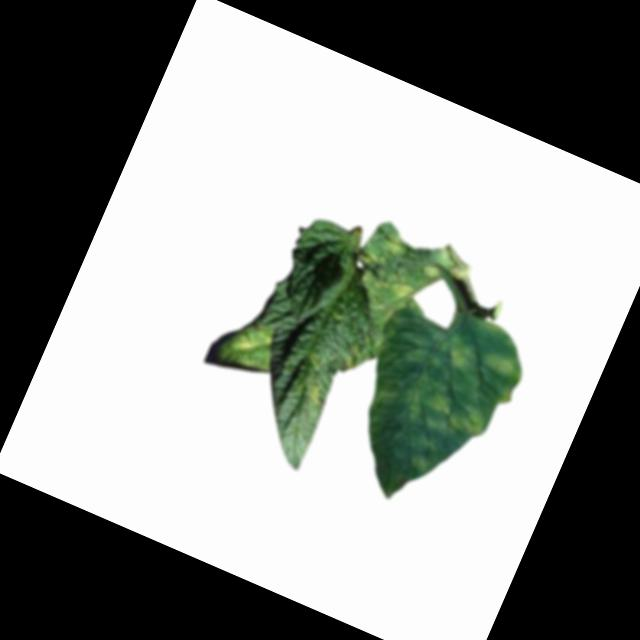Leaf_Mold: (363, 353, 497, 451), (344, 223, 446, 326), (435, 330, 483, 377), (477, 342, 526, 384), (300, 377, 330, 407)
